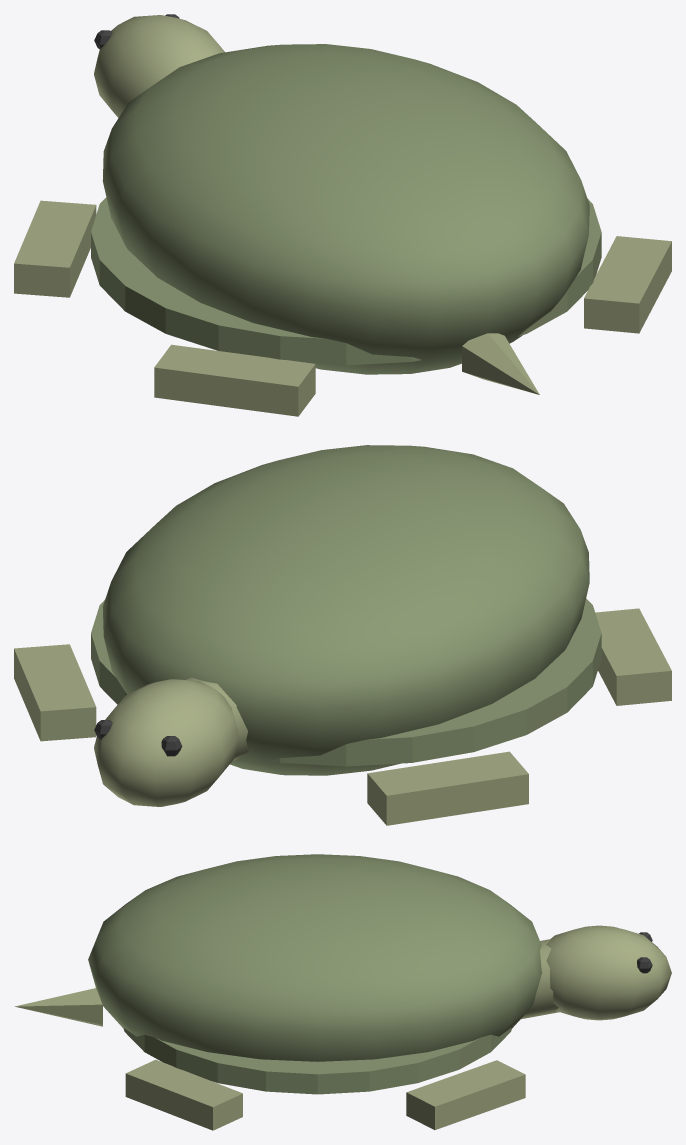
File: turtle.glb
3 views of the same model, one above another, from view 1: azimuth 30°, elevation 25°; view 2: azimuth 150°, elevation 25°; view 3: azimuth 270°, elevation 25° (orthographic). The views are drawn at different scales.
Visible parts, largest first — view 1: turtle; view 2: turtle; view 3: turtle.
Part boxes in pixels (box(x1,y1,x2,y2)): turtle: box(14, 14, 671, 416); turtle: box(14, 445, 671, 825); turtle: box(14, 854, 671, 1130).
Size of the model in its own units: 0.6323 by 0.2728 by 0.888.
